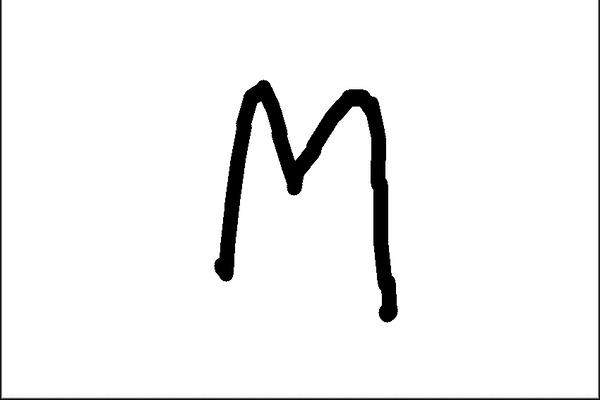M: (219, 75, 402, 321)
